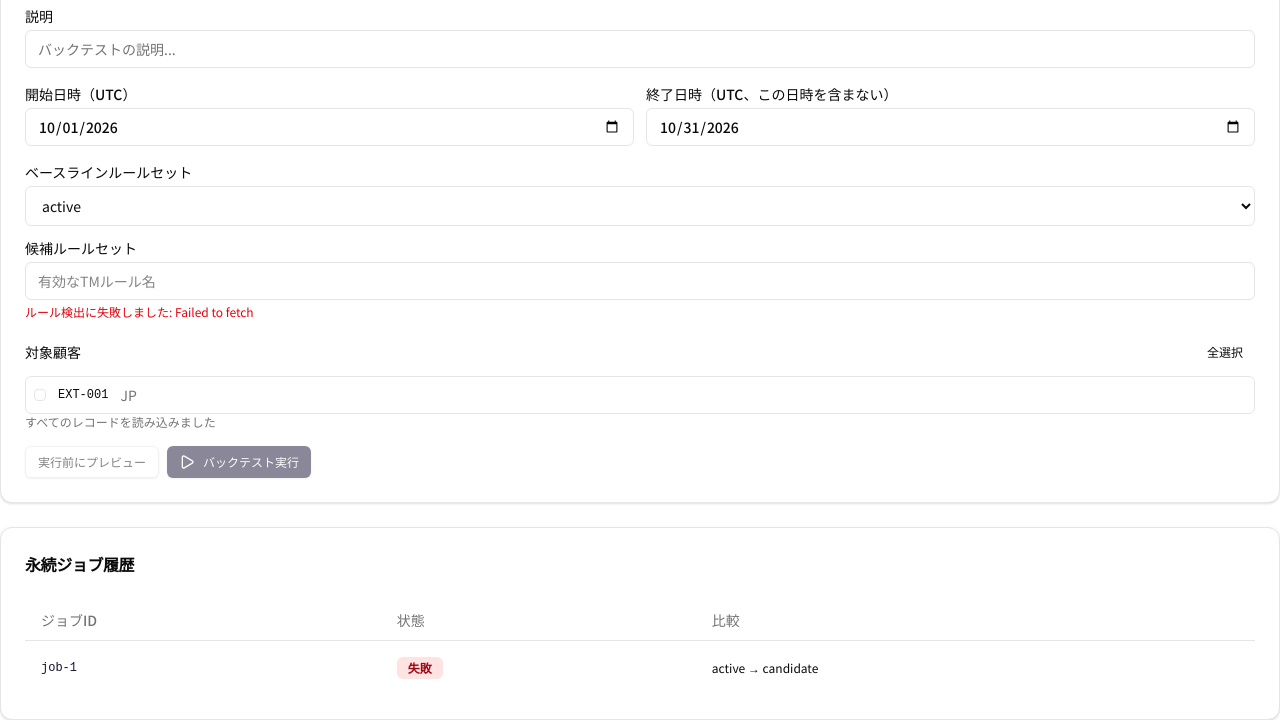
Test: durable backtest polling › opens a failed job from durable history after reload
(page scrolled)
Click the button "job-1": [59, 668] box [41,660,77,676]
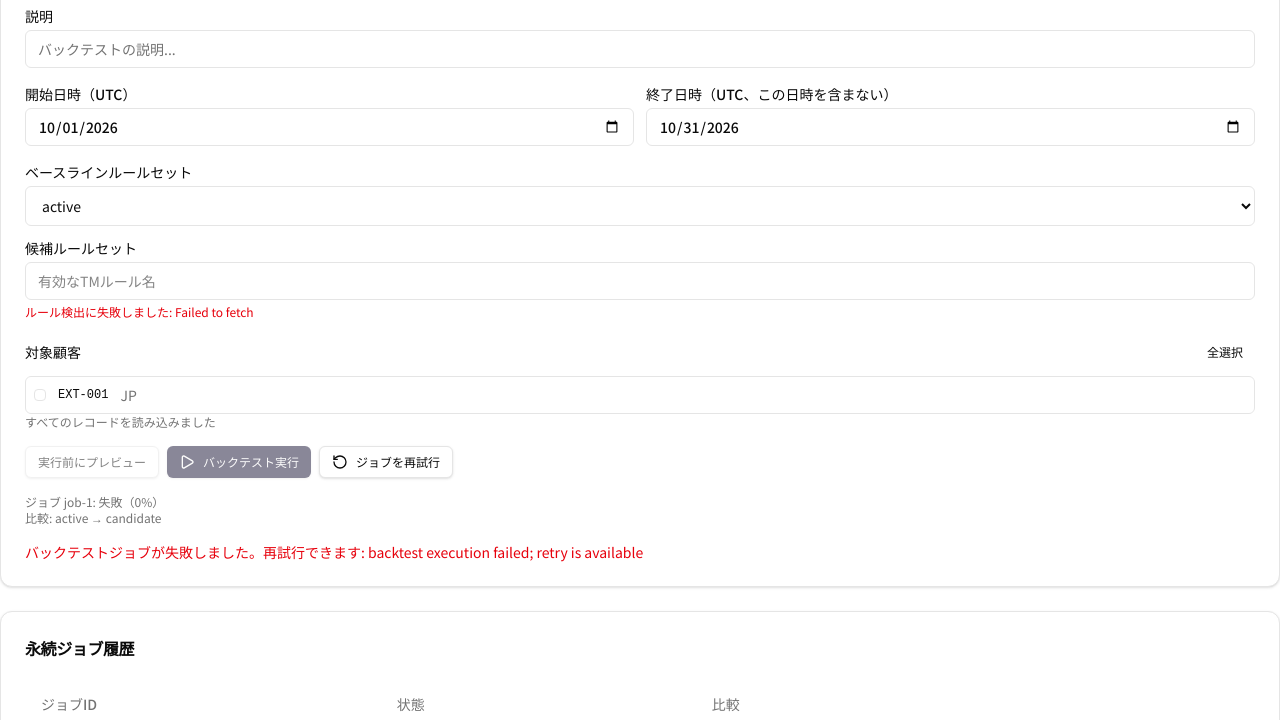
Expected: the button "ジョブを再試行" is shown, [319,446,453,478]
Expected: the message shows "再試行できます", [25,542,361,562]
